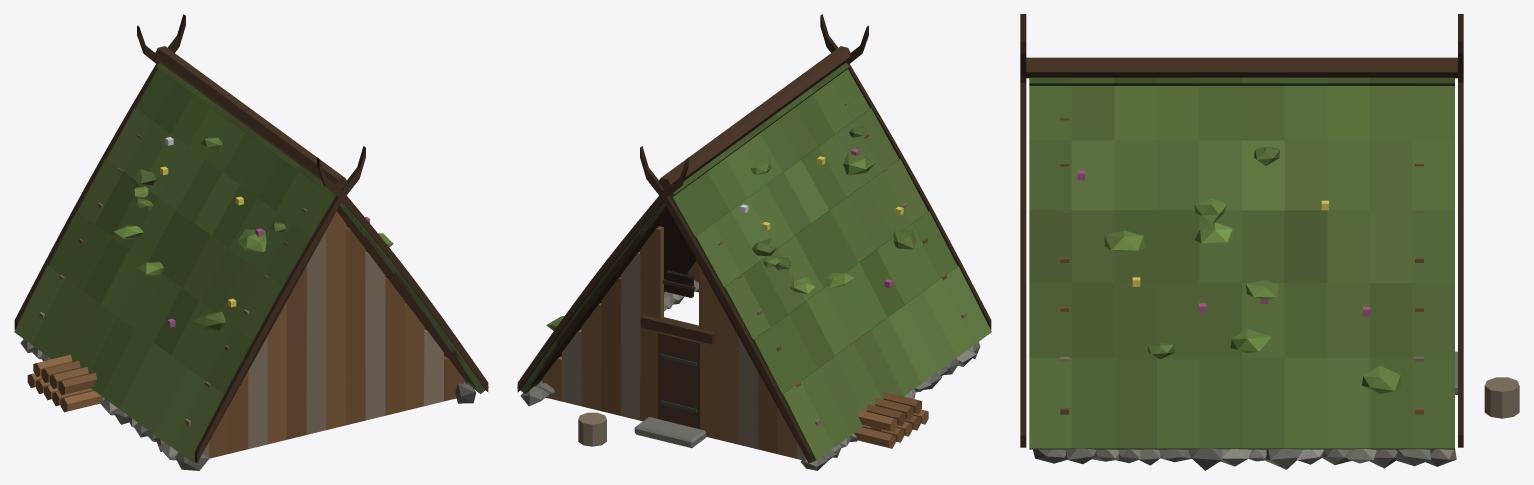
Rendered from Cottage.glb.
3 views of the same model, side by side, from view 1: azimuth 30°, elevation 25°; view 2: azimuth 150°, elevation 25°; view 3: azimuth 270°, elevation 25° (orthographic). The views are drawn at different scales.
Visible parts, largest first — view 1: Mat_Leaves_5f7b3a, Mat_Leaves_485c2d, Mat_Wood_583e28, Mat_Wood_7e5d3f, Mat_Wood_362519, Mat_Thatch_847562, Mat_Leaves_3c4c26, Mat_Thatch_deca5b, Mat_Stone_6a6863, Mat_Stone_807e78; view 2: Mat_Leaves_5f7b3a, Mat_Leaves_485c2d, Mat_Wood_583e28, Mat_Wood_7e5d3f, Mat_Wood_362519, Mat_Leaves_3c4c26, Mat_Stone_807e78, Mat_Stone_6a6863, Mat_Thatch_847562; view 3: Mat_Leaves_5f7b3a, Mat_Leaves_485c2d, Mat_Wood_583e28, Mat_Wood_362519, Mat_Stone_6a6863, Mat_Leaves_3c4c26, Mat_Stone_807e78, Mat_Wood_7e5d3f.
Part boxes in pixels (x1=…): Mat_Leaves_5f7b3a: x1=14, y1=107, x2=393, y2=459; Mat_Leaves_485c2d: x1=48, y1=63, x2=488, y2=462; Mat_Wood_583e28: x1=41, y1=46, x2=488, y2=462; Mat_Wood_7e5d3f: x1=27, y1=134, x2=424, y2=444; Mat_Wood_362519: x1=14, y1=14, x2=487, y2=462; Mat_Thatch_847562: x1=39, y1=251, x2=385, y2=457; Mat_Leaves_3c4c26: x1=65, y1=114, x2=455, y2=403; Mat_Thatch_deca5b: x1=160, y1=166, x2=443, y2=406; Mat_Stone_6a6863: x1=20, y1=339, x2=476, y2=470; Mat_Stone_807e78: x1=41, y1=137, x2=199, y2=470; Mat_Leaves_5f7b3a: x1=546, y1=125, x2=991, y2=459; Mat_Leaves_485c2d: x1=517, y1=69, x2=957, y2=462; Mat_Wood_583e28: x1=517, y1=25, x2=946, y2=462; Mat_Wood_7e5d3f: x1=542, y1=101, x2=928, y2=458; Mat_Wood_362519: x1=518, y1=14, x2=991, y2=462; Mat_Leaves_3c4c26: x1=525, y1=63, x2=928, y2=404; Mat_Stone_807e78: x1=520, y1=204, x2=976, y2=457; Mat_Stone_6a6863: x1=521, y1=279, x2=980, y2=470; Mat_Thatch_847562: x1=562, y1=202, x2=966, y2=459; Mat_Leaves_5f7b3a: x1=1029, y1=86, x2=1454, y2=448; Mat_Leaves_485c2d: x1=1029, y1=77, x2=1454, y2=449; Mat_Wood_583e28: x1=1020, y1=14, x2=1457, y2=447; Mat_Wood_362519: x1=1020, y1=14, x2=1463, y2=447; Mat_Stone_6a6863: x1=1033, y1=448, x2=1456, y2=470; Mat_Leaves_3c4c26: x1=1029, y1=77, x2=1454, y2=449; Mat_Stone_807e78: x1=1092, y1=351, x2=1457, y2=466; Mat_Wood_7e5d3f: x1=1060, y1=117, x2=1519, y2=418.
Bounding box in the file's own units: 15.78 × 13.29 × 16.89.
Materials: 1 (1 with a texture image).
